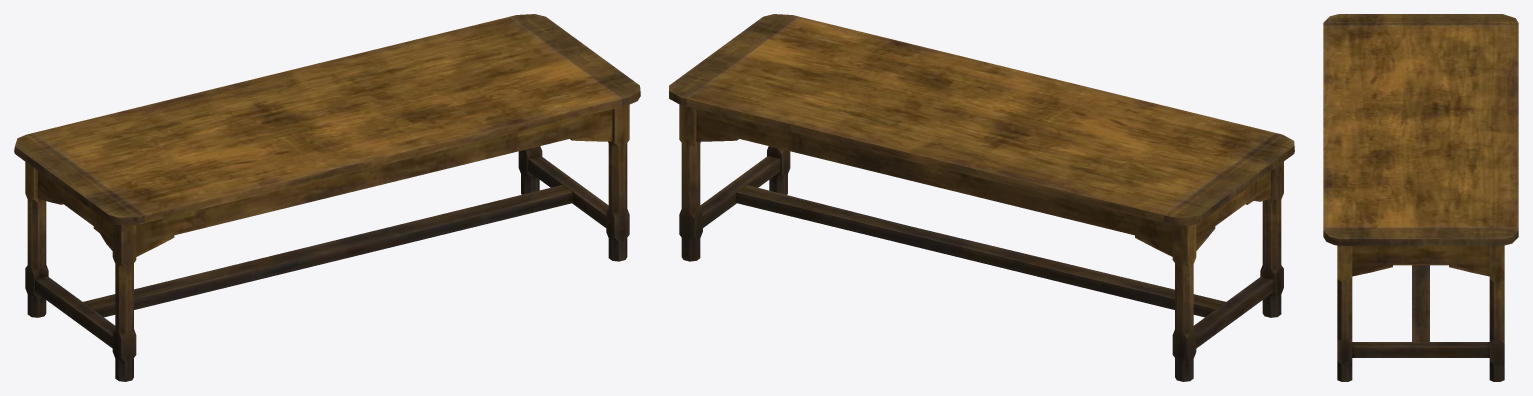
The model's file is WoodenTable_01.glb.
3 renders of one model, left to right at view 1: azimuth 30°, elevation 25°; view 2: azimuth 150°, elevation 25°; view 3: azimuth 270°, elevation 25°, orthographic. The views are drawn at different scales.
Visible parts, largest first — view 1: WoodenTable_01; view 2: WoodenTable_01; view 3: WoodenTable_01.
Boxes of the visible parts, x1=… form: WoodenTable_01: x1=14, y1=14, x2=640, y2=381; WoodenTable_01: x1=669, y1=14, x2=1294, y2=381; WoodenTable_01: x1=1323, y1=14, x2=1518, y2=381.
Bounding box in the file's own units: 1.79 × 0.5489 × 0.6571.
Materials: 1 (1 with a texture image).
